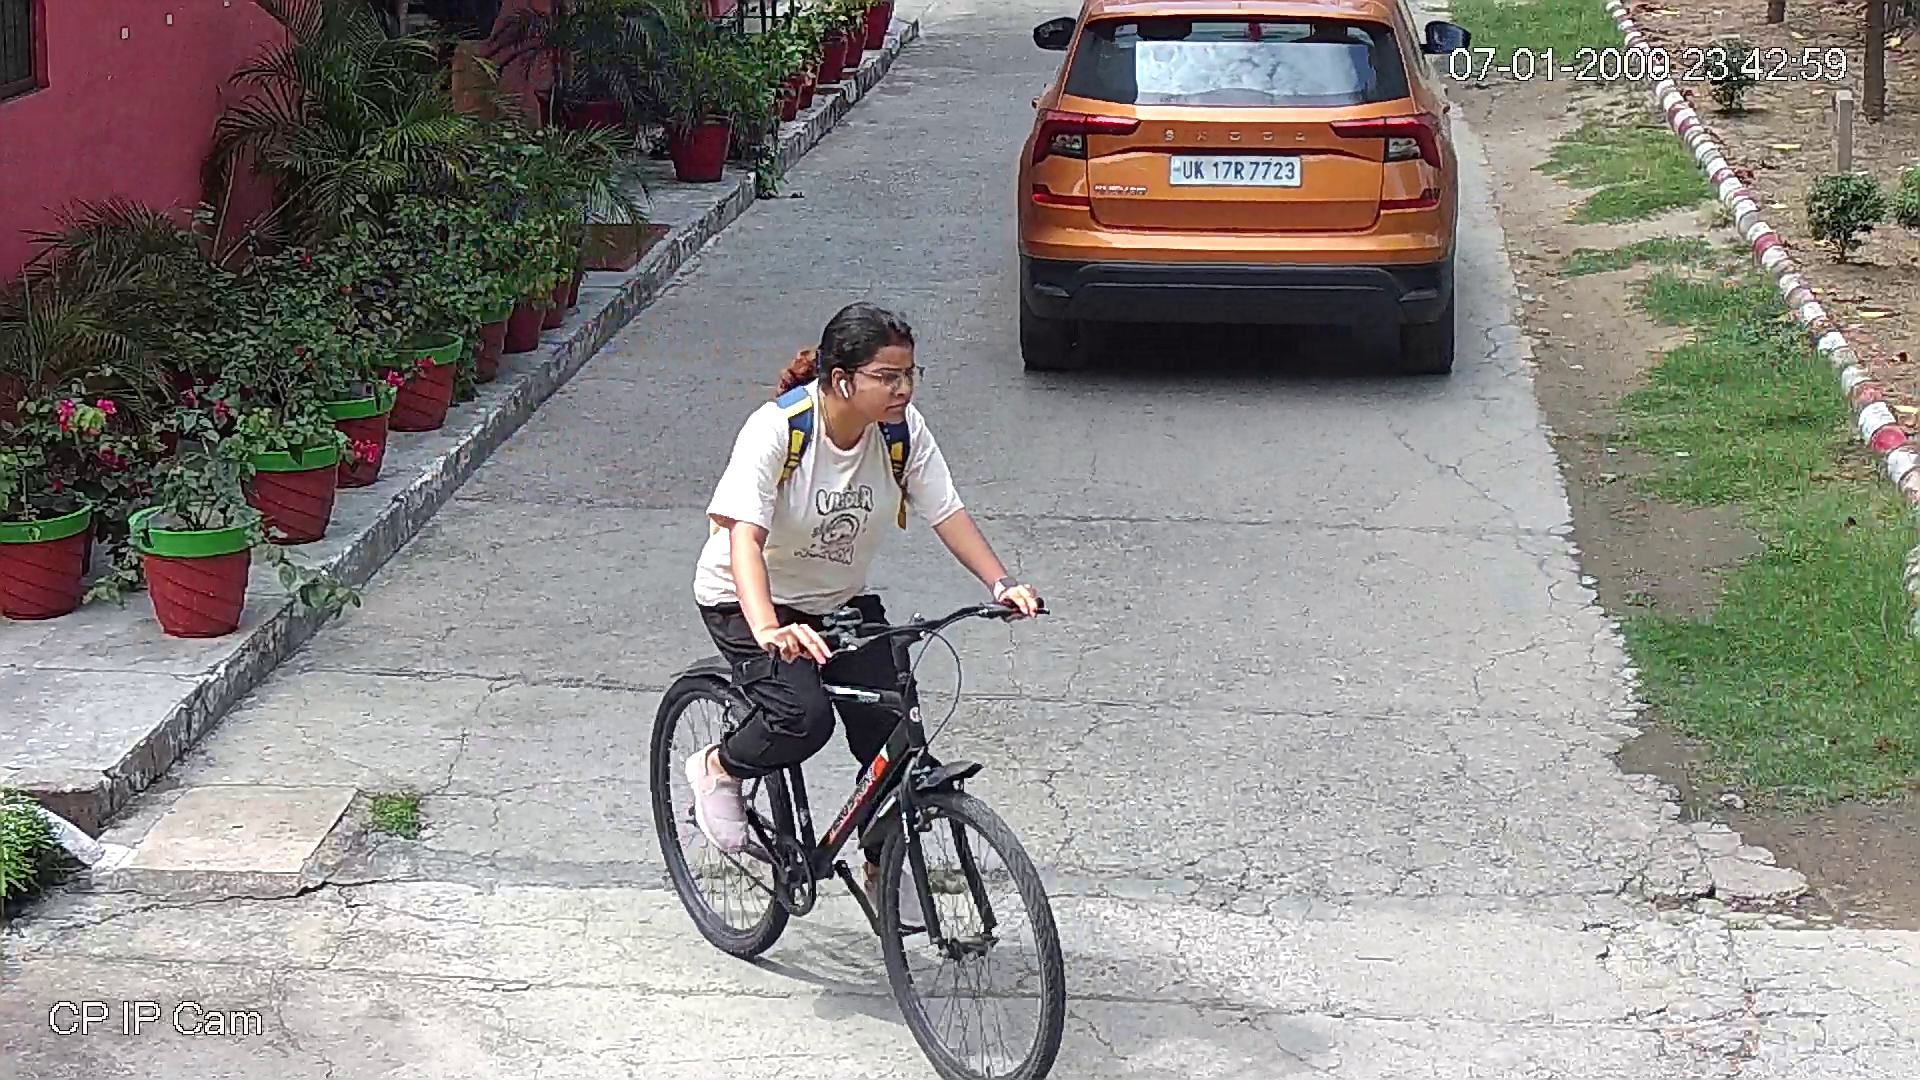plate: (1167, 154, 1306, 189)
